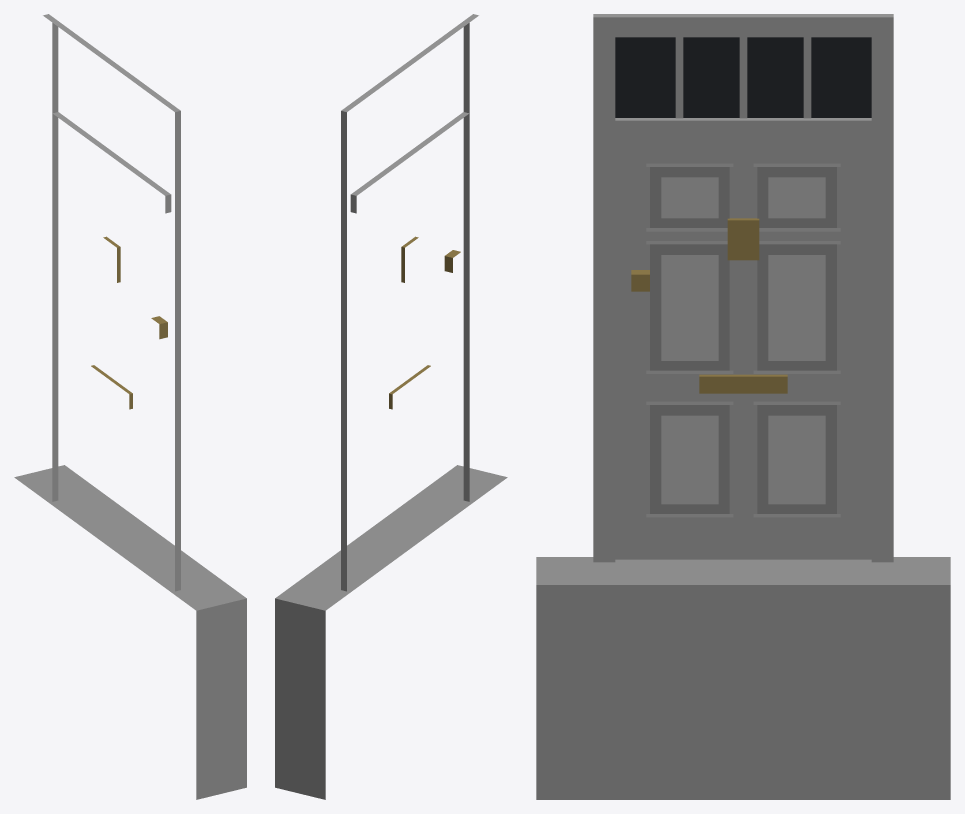
Rendered from SM_Prop_door_panel6_0.glb.
The picture shows the model from 3 angles, left to right: view 1: azimuth 30°, elevation 25°; view 2: azimuth 150°, elevation 25°; view 3: azimuth 270°, elevation 25°; orthographic projection. The views are drawn at different scales.
Parts seen in each view (by area): view 1: SM_Prop_door_panel6_0; view 2: SM_Prop_door_panel6_0; view 3: SM_Prop_door_panel6_0.
Boxes of the visible parts, <box> form: SM_Prop_door_panel6_0: <box>14,14,246,799</box>; SM_Prop_door_panel6_0: <box>275,14,507,799</box>; SM_Prop_door_panel6_0: <box>536,14,950,799</box>.
Bounding box in the file's own units: 0.21 × 2.65 × 1.31.
